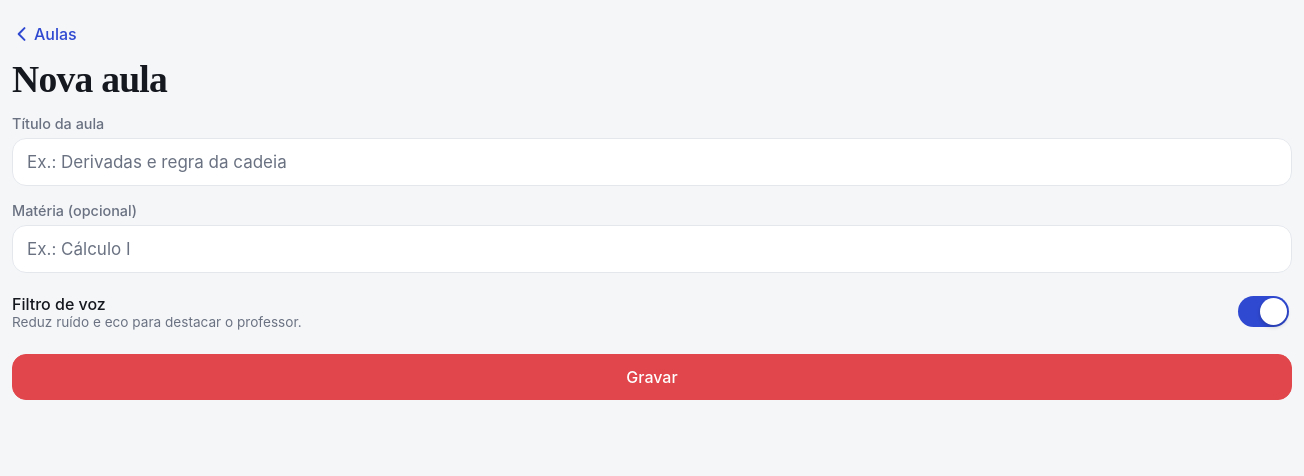
Test: RecordScreen — avisos › avisa se uma parte não puder ser salva no aparelho
Type "Cálculo" into the field labelled "Título da aula" at (652, 162), box [12,138,1292,186]
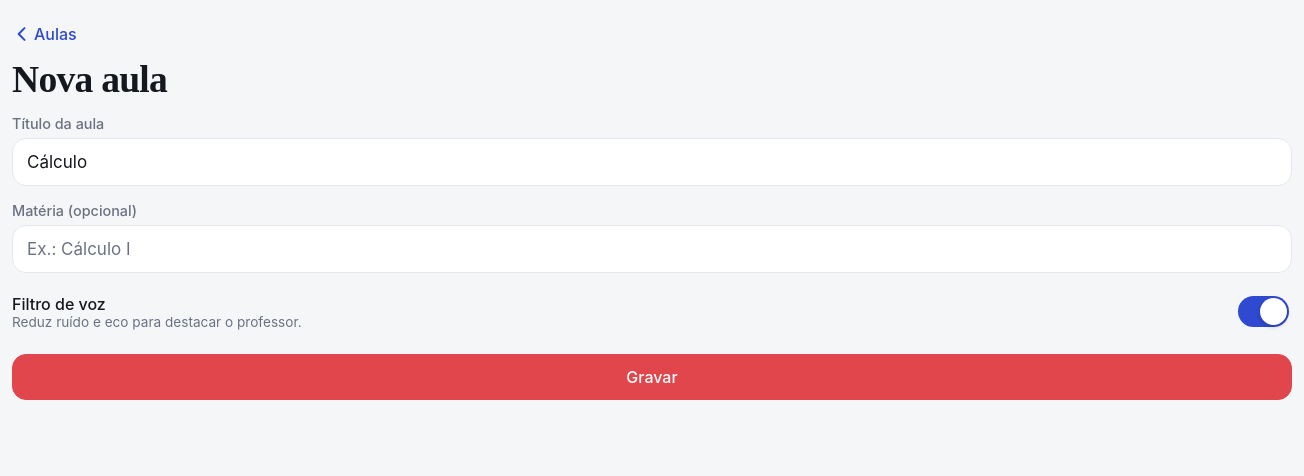
Click the button "Gravar" at (652, 378), box [12,354,1292,400]
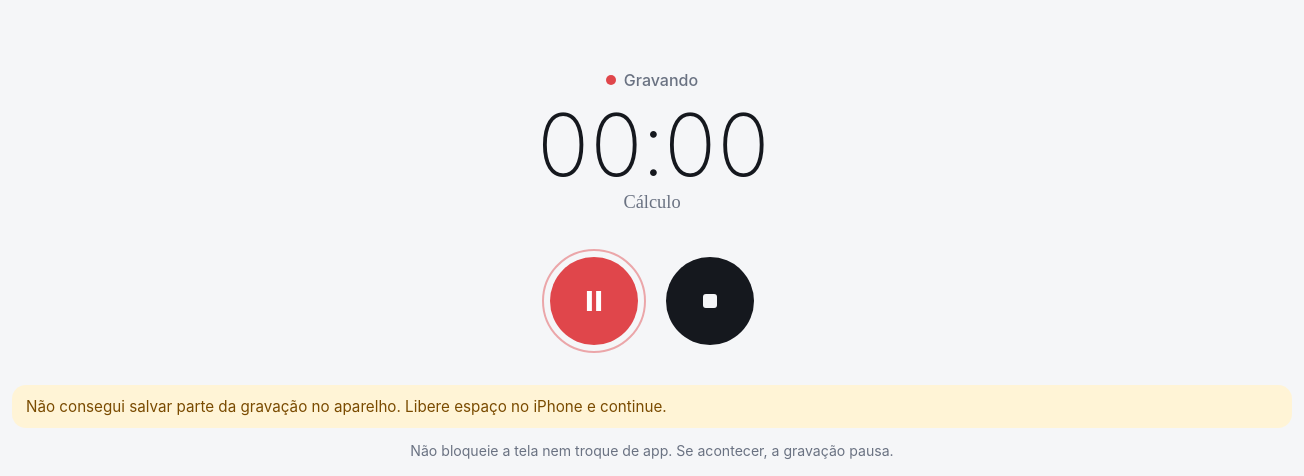
Result: the text "Não consegui salvar parte da gravação" is shown at [26,397,667,416]
